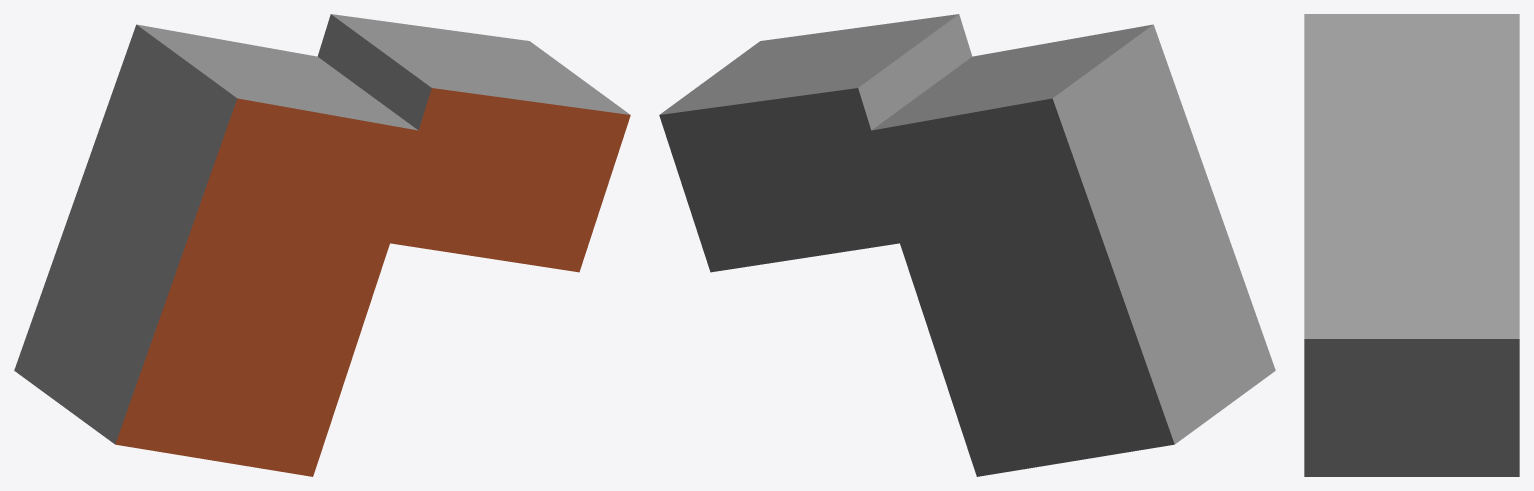
The model's file is construction_5827_assumed_A_Casa_h6m.obj.
3 renders of one model, left to right at view 1: azimuth 30°, elevation 25°; view 2: azimuth 150°, elevation 25°; view 3: azimuth 270°, elevation 25°, orthographic. The views are drawn at different scales.
Visible parts, largest first — view 1: construction_5827_assumed_A_Casa; view 2: construction_5827_assumed_A_Casa; view 3: construction_5827_assumed_A_Casa.
Part boxes in pixels (bbox=[...]): construction_5827_assumed_A_Casa: bbox=[14, 14, 630, 476]; construction_5827_assumed_A_Casa: bbox=[659, 14, 1275, 476]; construction_5827_assumed_A_Casa: bbox=[1304, 14, 1519, 476].
Bounding box in the file's own units: 17.67 × 13 × 6.
